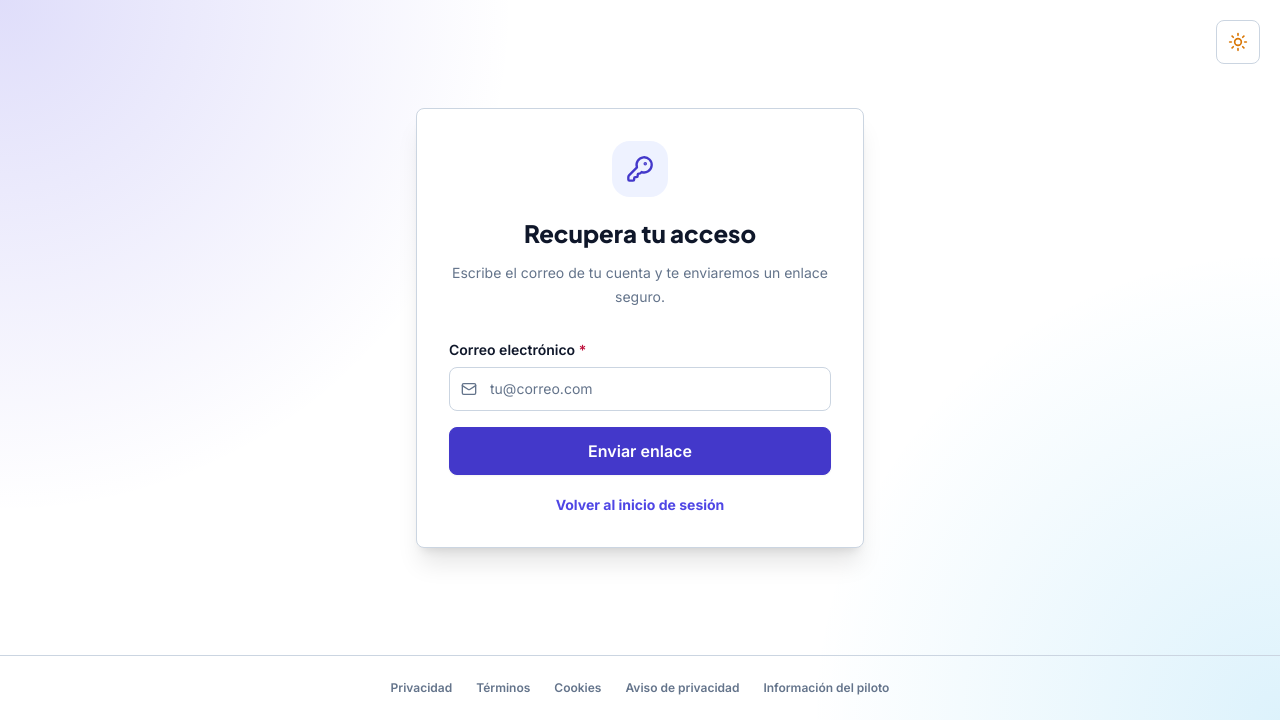
Test: Password recovery › submits an email and always presents the neutral confirmation
Step 1. Type "persona@example.com" into the field labelled "Correo electrónico *" → [640, 388], box [449, 366, 831, 410]
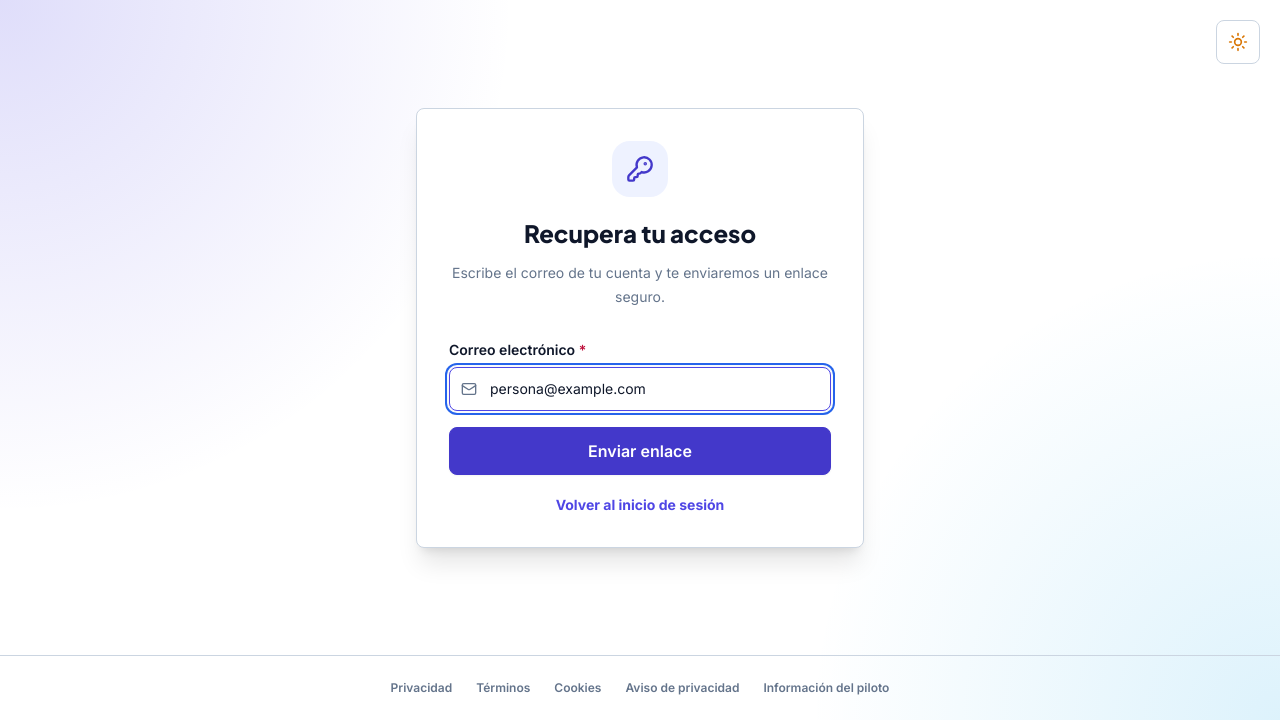
Step 2. Click the button "Enviar enlace" → [640, 450], box [449, 426, 831, 474]
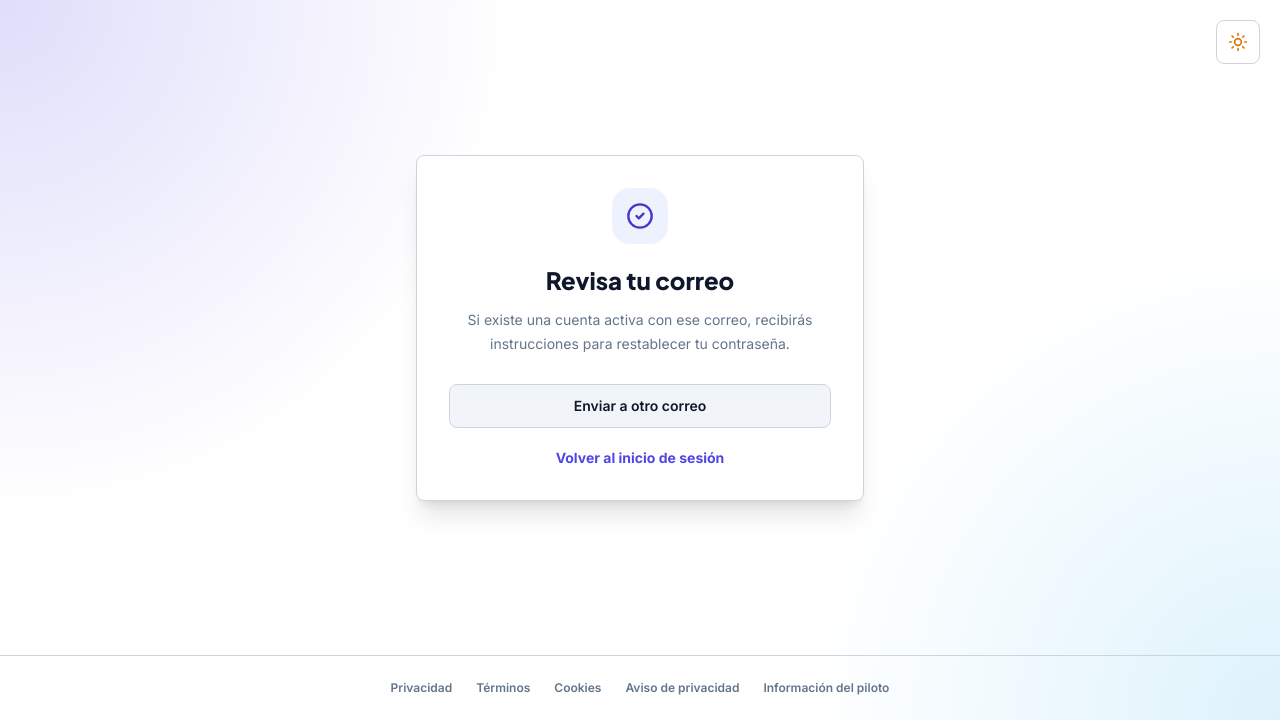
Expected: the text "Si existe una cuenta activa" is shown, [468, 310, 812, 352]
